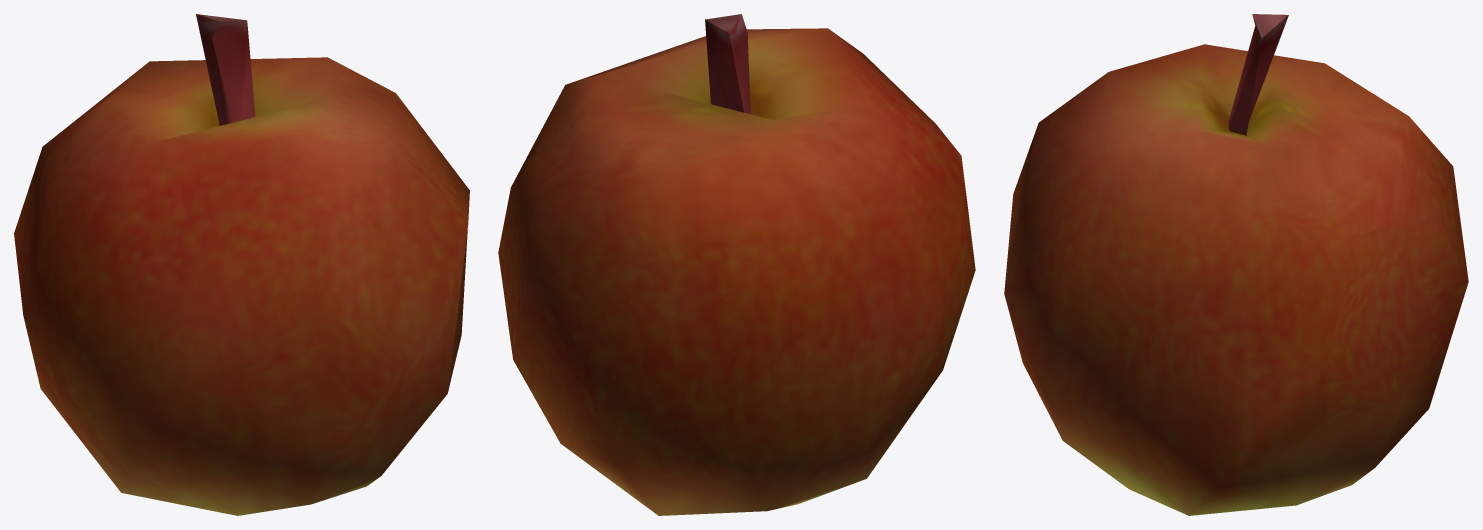
File: apple_low.fbx
3 renders of one model, left to right at view 1: azimuth 30°, elevation 25°; view 2: azimuth 150°, elevation 25°; view 3: azimuth 270°, elevation 25°, orthographic. The views are drawn at different scales.
Parts seen in each view (by area): view 1: apple; view 2: apple; view 3: apple.
Part boxes in pixels (box(x1,y1,x2,y2)): apple: box(14, 14, 469, 515); apple: box(498, 14, 975, 515); apple: box(1004, 14, 1468, 515).
Size of the model in its own units: 5.38 by 5.94 by 5.43.
